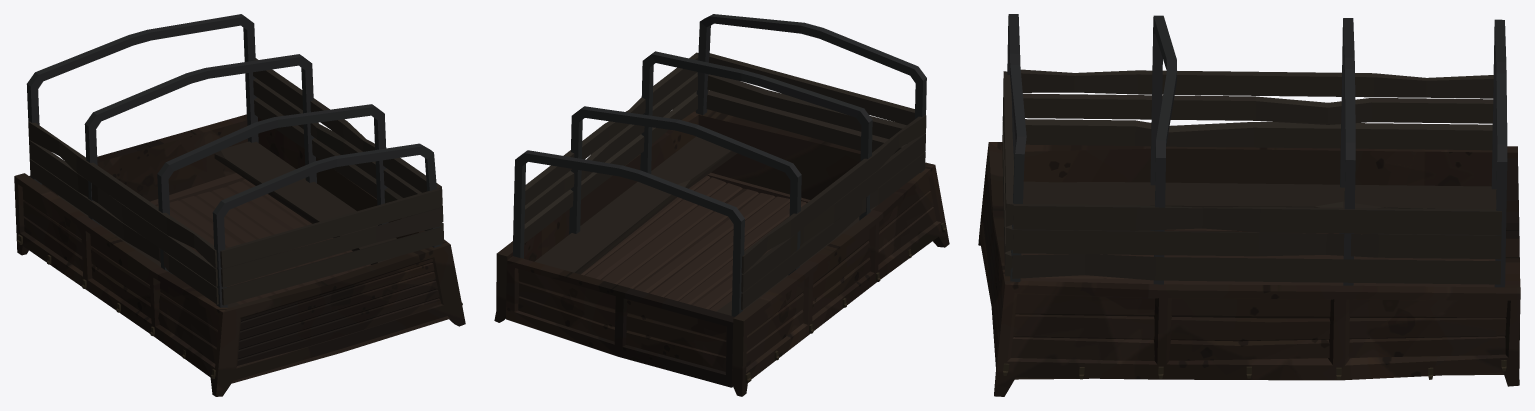
The model's file is SM_Veh_Truck_01_Canopy_Structure_Destroyed.fbx.
3 views of the same model, side by side, from view 1: azimuth 30°, elevation 25°; view 2: azimuth 150°, elevation 25°; view 3: azimuth 270°, elevation 25° (orthographic). The views are drawn at different scales.
Parts seen in each view (by area): view 1: SM_Veh_Truck_01_Canopy_Structure_Destroyed; view 2: SM_Veh_Truck_01_Canopy_Structure_Destroyed; view 3: SM_Veh_Truck_01_Canopy_Structure_Destroyed.
Boxes of the visible parts, x1,y1,x2,y2 form: SM_Veh_Truck_01_Canopy_Structure_Destroyed: (14,14,465,396); SM_Veh_Truck_01_Canopy_Structure_Destroyed: (494,14,949,396); SM_Veh_Truck_01_Canopy_Structure_Destroyed: (978,14,1520,396).
Size of the model in its own units: 283 by 212 by 390.
